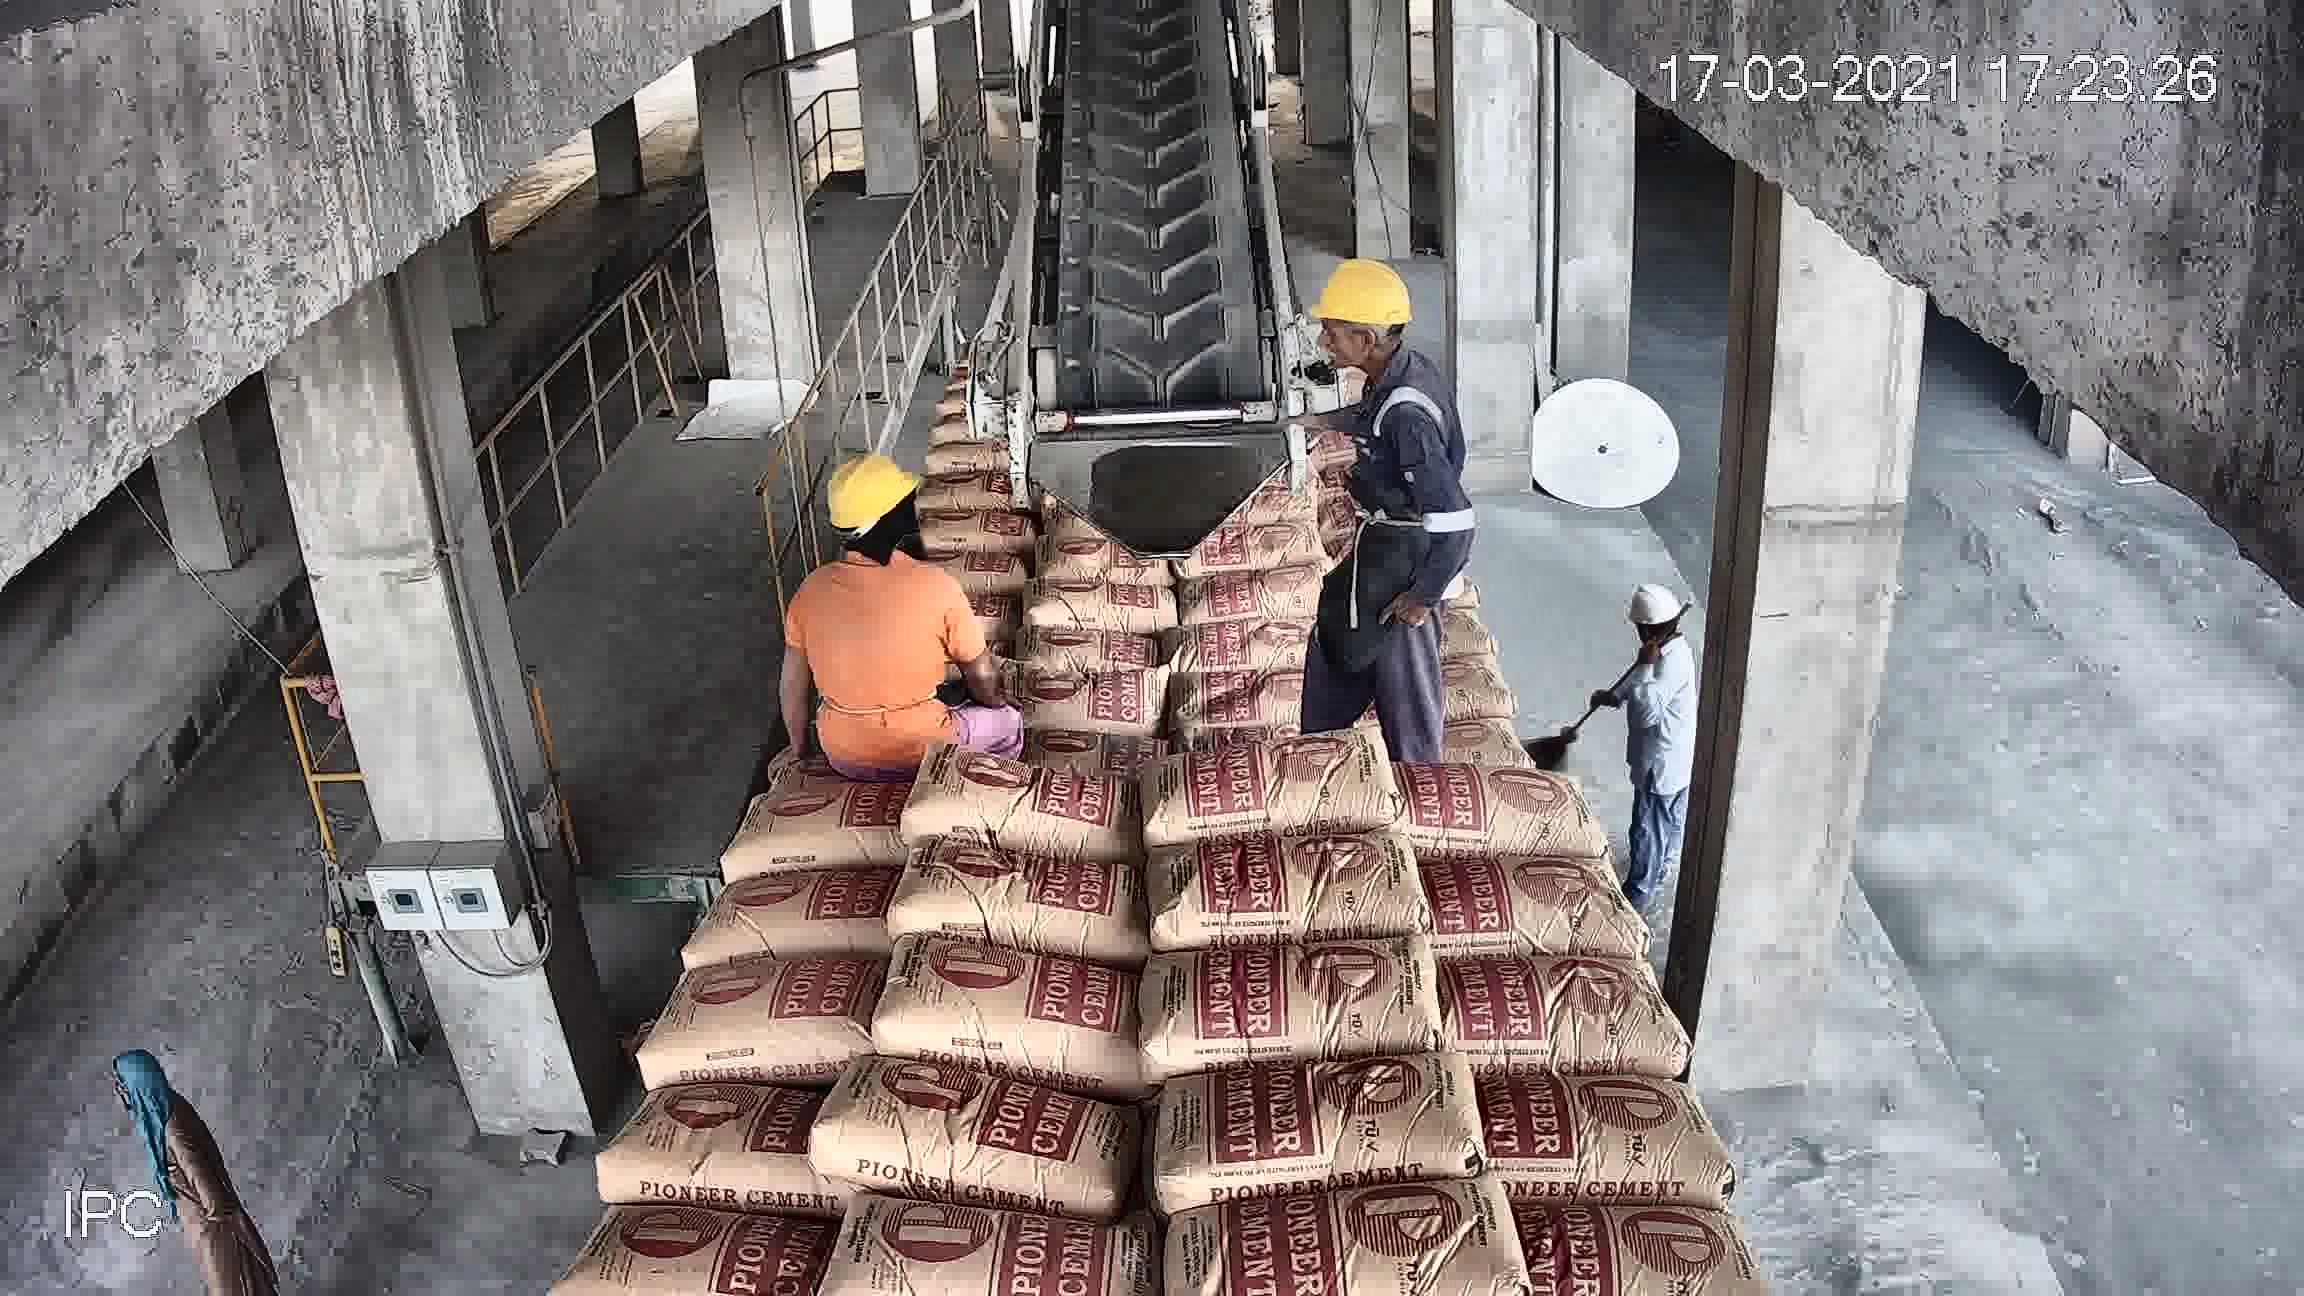bag: (1093, 168, 1206, 271)
bag_h: (1136, 1048, 1478, 1215), (1152, 1174, 1524, 1293), (1155, 812, 1423, 975), (881, 923, 1188, 1062), (1138, 930, 1438, 1063), (642, 942, 899, 1071), (824, 1076, 1130, 1184), (590, 1070, 831, 1203), (1427, 956, 1698, 1071), (578, 1185, 858, 1279), (1161, 729, 1412, 831), (1432, 850, 1628, 975), (1513, 1196, 1764, 1290), (1480, 1082, 1707, 1184), (847, 1212, 1138, 1291), (696, 859, 915, 964), (1400, 760, 1625, 861), (896, 851, 1146, 942), (1155, 584, 1372, 687), (885, 767, 1143, 850), (748, 687, 930, 802), (1157, 652, 1362, 753), (965, 616, 1138, 707), (785, 631, 942, 725), (753, 774, 911, 866), (940, 695, 1158, 758), (807, 570, 951, 661), (967, 551, 1144, 625), (1400, 696, 1582, 767), (1146, 540, 1336, 608), (1377, 617, 1532, 688), (1331, 508, 1465, 559), (1324, 441, 1449, 495), (1381, 574, 1510, 623), (1309, 415, 1434, 456), (1340, 483, 1461, 524), (1063, 529, 1161, 578), (1329, 383, 1416, 430), (1310, 362, 1407, 404), (1307, 342, 1416, 377), (1071, 487, 1169, 522), (1100, 449, 1174, 495)
belt: (1051, 22, 1252, 381)
